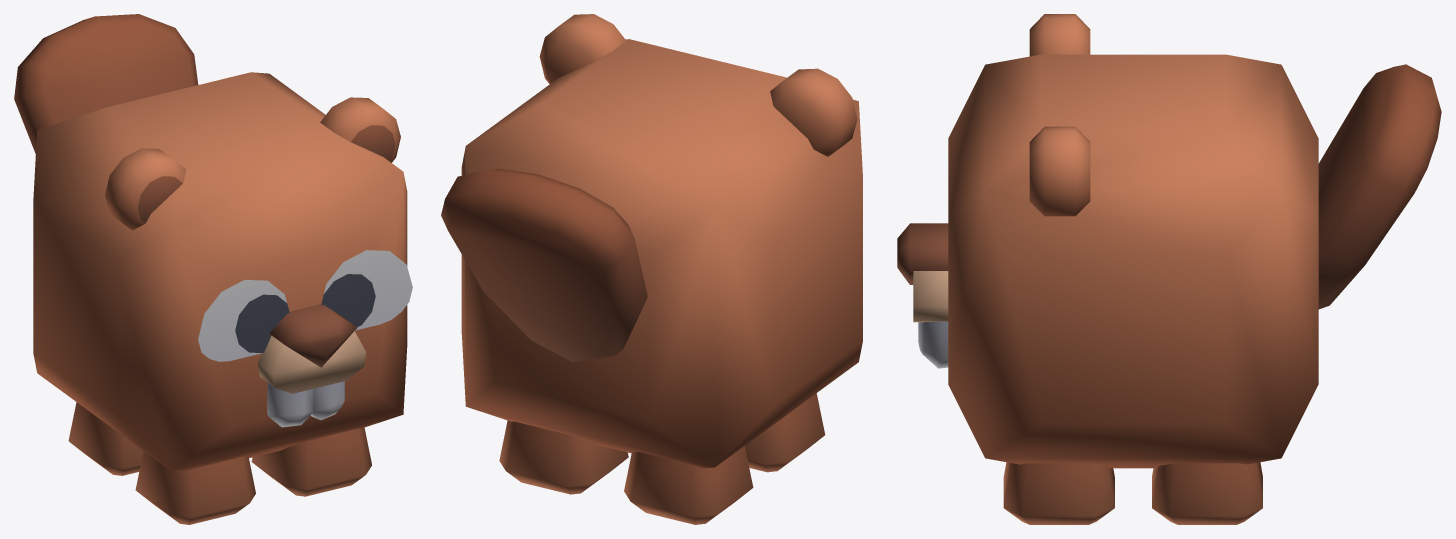
File: beaver.glb
3 views of the same model, side by side, from view 1: azimuth 30°, elevation 25°; view 2: azimuth 150°, elevation 25°; view 3: azimuth 270°, elevation 25° (orthographic). The views are drawn at different scales.
Parts seen in each view (by area): view 1: body, tail, leg-front-right, leg-front-left, leg-back-right; view 2: body, tail, leg-back-right, leg-back-left, leg-front-right; view 3: body, tail, leg-front-left, leg-back-left.
Boxes of the visible parts, x1,y1,x2,y2 form: body: (33,72,412,472); tail: (14,14,198,154); leg-front-right: (135,451,255,524); leg-front-left: (251,427,371,496); leg-back-right: (68,402,143,475); body: (461,14,862,468); tail: (441,169,647,362); leg-back-right: (624,446,753,524); leg-back-left: (499,420,628,494); leg-front-right: (745,393,825,472); body: (897,14,1318,468); tail: (1318,64,1441,309); leg-front-left: (1003,462,1114,524); leg-back-left: (1152,462,1262,524).
Size of the model in its own units: 1.25 by 1.5 by 1.84.
